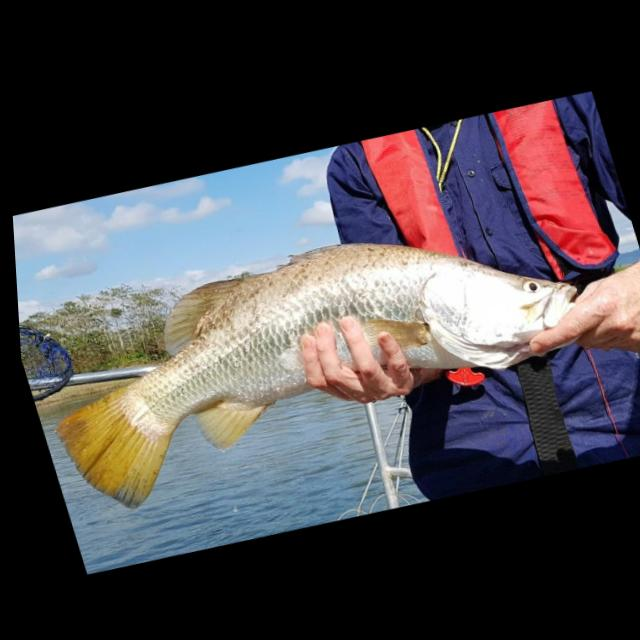Seabass: (12, 176, 623, 536)
